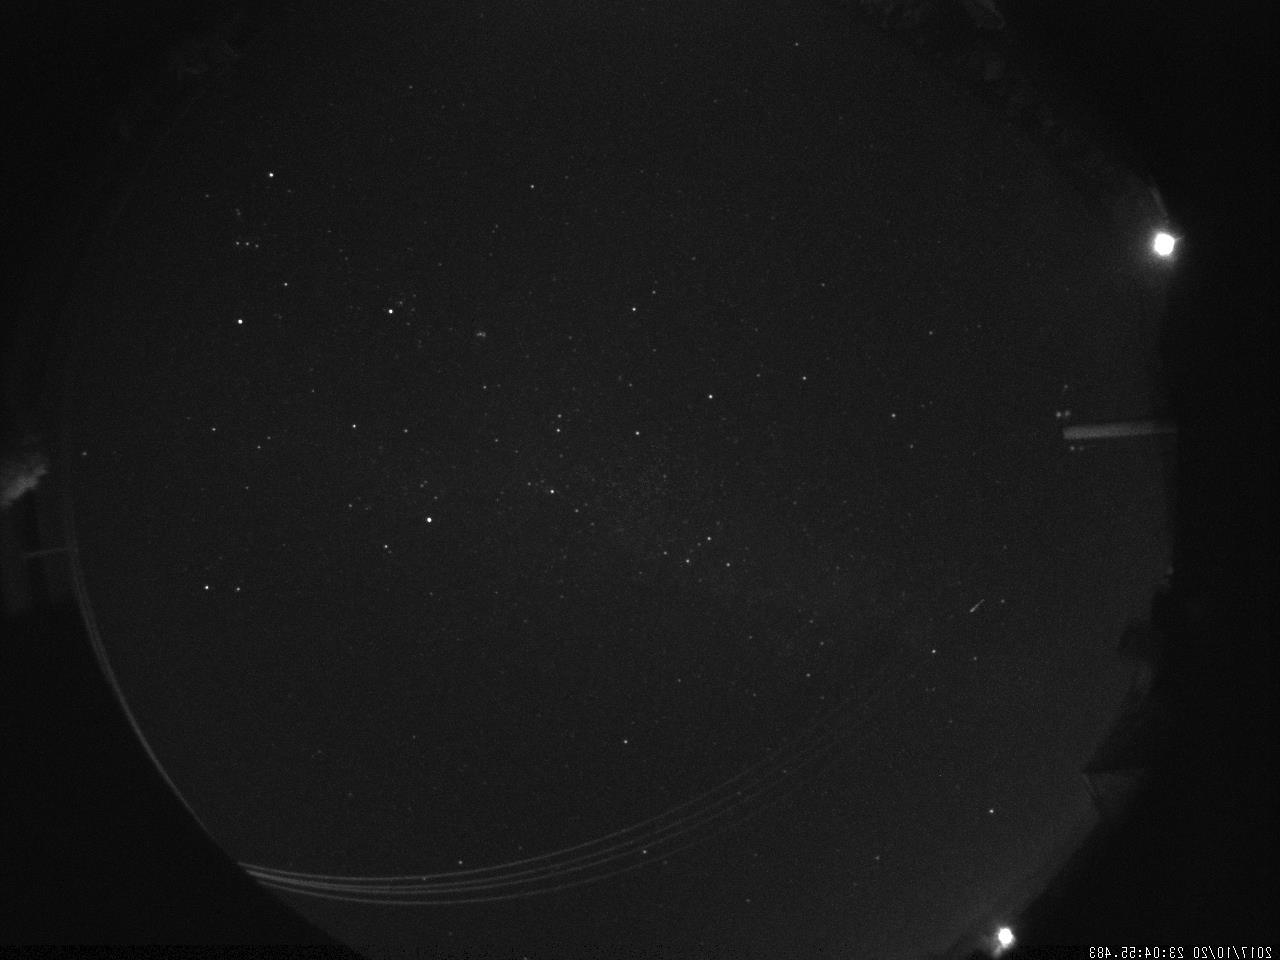meteor: (967, 594, 996, 618)
